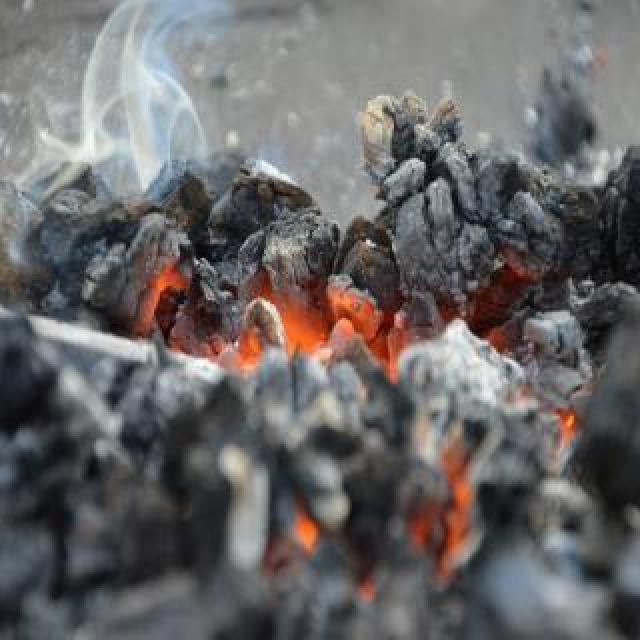Smoke: (4, 0, 220, 236)
